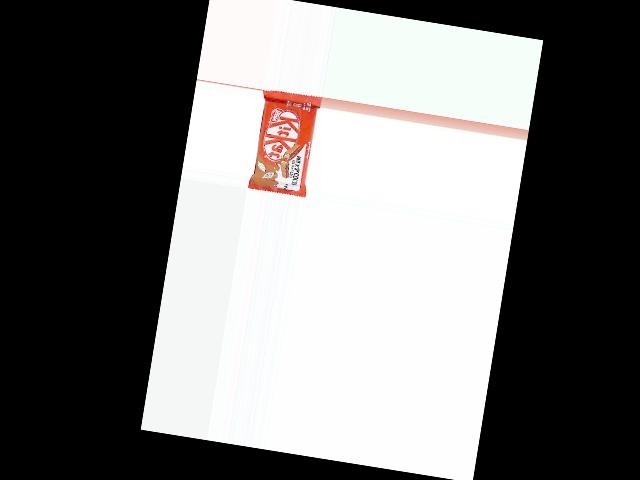chocolate: (247, 88, 322, 198)
